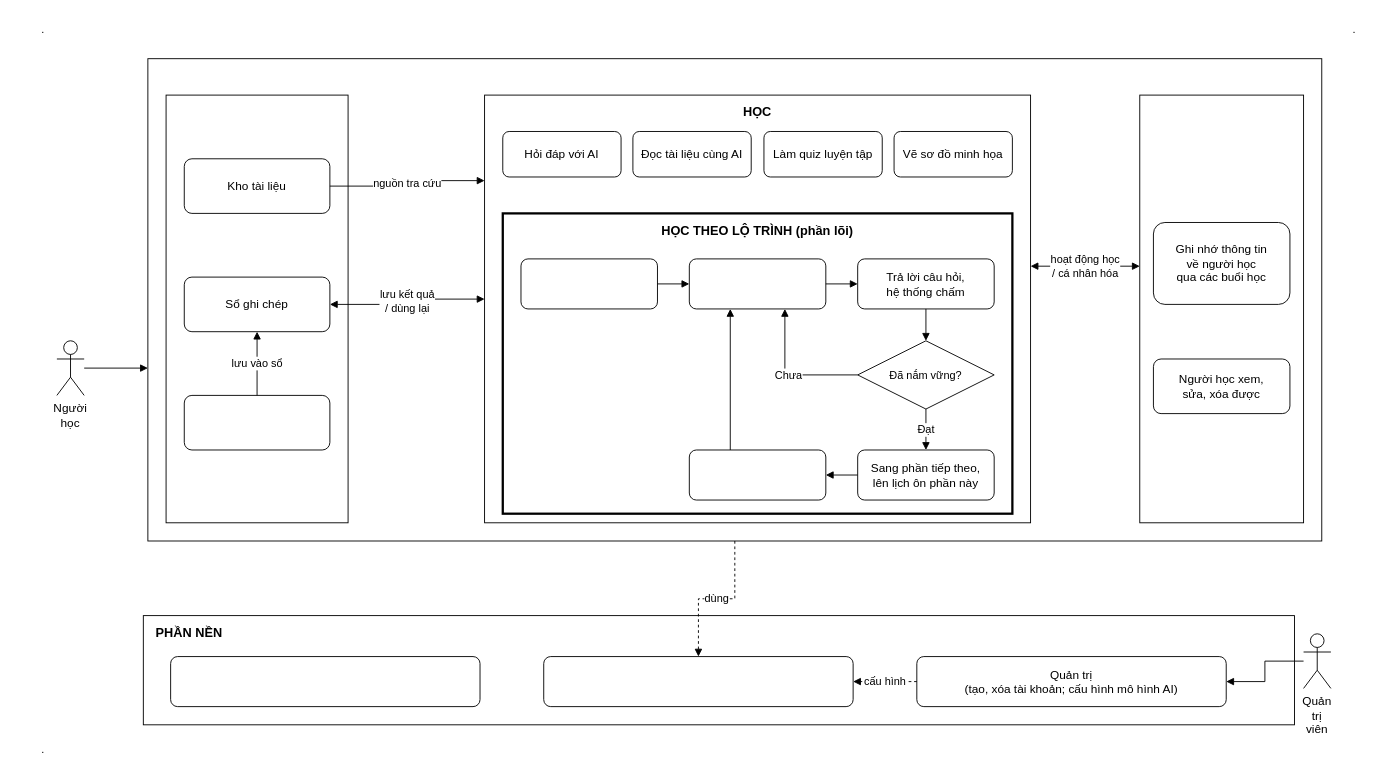
The diagram is 1397 pixels wide and 779 high, and some of its shapes have lost their labels. The shapes that lost their labels are listed below. From the top down, each one's box as (x1, y1, x2, y2) in pixels, then its label:
(520, 258, 657, 309): Đặt mục tiêu, cùng AI chốt dàn ý
(147, 58, 1322, 541): KHÔNG GIAN HỌC (mỗi môn học một không gian)
(688, 258, 826, 309): Học từng phần kiến thức
(165, 94, 348, 523): TÀI LIỆU VÀ GHI CHÉP
(1139, 94, 1304, 523): BỘ NHỚ NGƯỜI HỌC
(183, 394, 330, 450): Soạn thảo có AI hỗ trợ
(688, 449, 826, 500): Đến hạn thì ôn lại
(170, 656, 480, 707): Tài khoản (đăng nhập, dữ liệu riêng từng người)
(543, 656, 853, 707): Dịch vụ AI bên ngoài (mô hình ngôn ngữ, tìm kiếm web)
